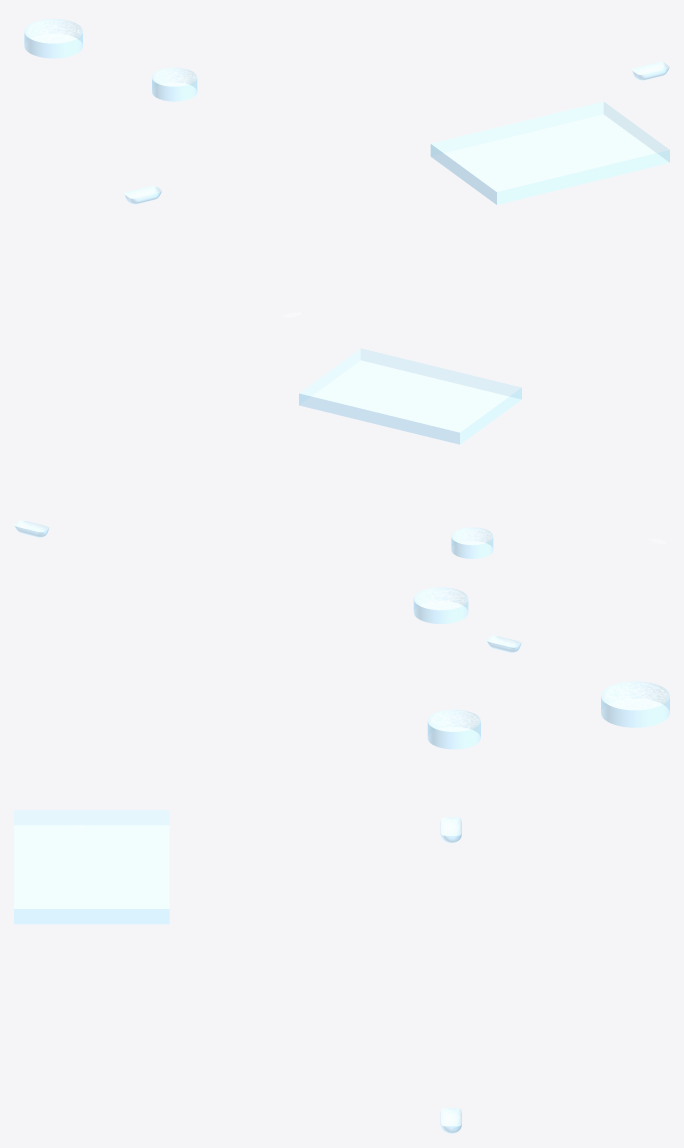
File: citadel_water.glb
3 renders of one model, top to bottom at view 1: azimuth 30°, elevation 25°; view 2: azimuth 150°, elevation 25°; view 3: azimuth 270°, elevation 25°, orthographic. The views are drawn at different scales.
Parts seen in each view (by area): view 1: water_pool_water, water_foam_card_cards; view 2: water_pool_water, water_foam_card_cards; view 3: water_pool_water, water_foam_card_cards.
Part boxes in pixels (x1,y1,x2,y2): water_pool_water: (24, 19, 669, 204); water_foam_card_cards: (27, 20, 663, 317); water_pool_water: (14, 348, 521, 652); water_foam_card_cards: (19, 522, 665, 645); water_pool_water: (14, 681, 669, 1133); water_foam_card_cards: (431, 682, 666, 1124).
Size of the model in its own units: 38.51 by 7.54 by 33.3.
2 materials, 1 textured.
